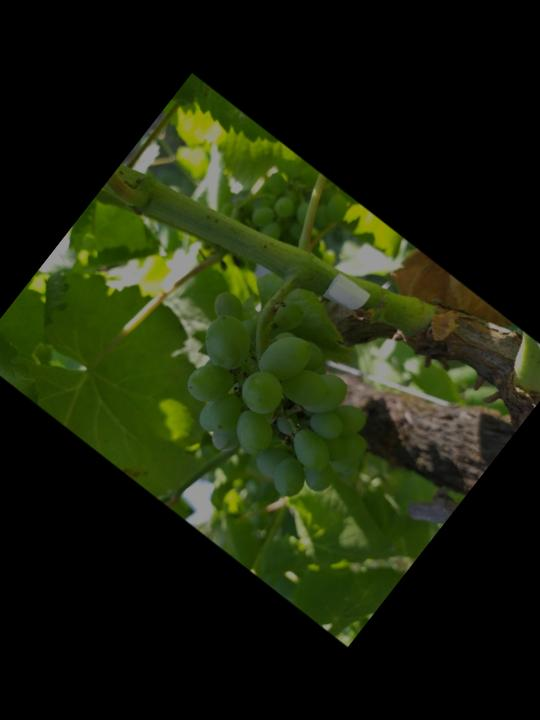grape: (141, 259, 420, 530)
